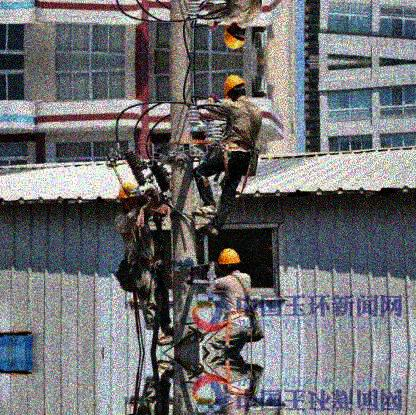helmet: (222, 73, 246, 102), (114, 183, 136, 214), (225, 20, 246, 52), (217, 247, 240, 274)
